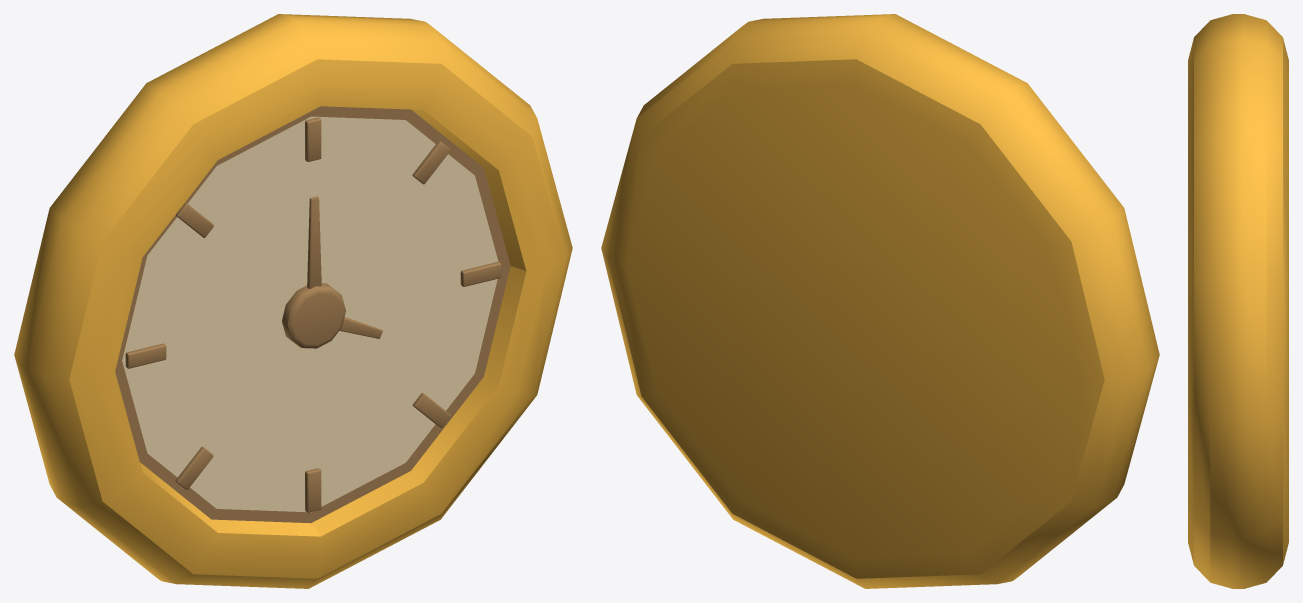
The model's file is Clock_3C.fbx.
3 views of the same model, side by side, from view 1: azimuth 30°, elevation 25°; view 2: azimuth 150°, elevation 25°; view 3: azimuth 270°, elevation 25° (orthographic). The views are drawn at different scales.
Parts seen in each view (by area): view 1: Clock_3C, Clock_3C Attachment_2; view 2: Clock_3C; view 3: Clock_3C.
Boxes of the visible parts, box(x1,y1,x2,y2) form: Clock_3C: box(14, 14, 572, 588); Clock_3C Attachment_2: box(307, 196, 321, 288); Clock_3C: box(601, 14, 1159, 588); Clock_3C: box(1188, 14, 1288, 588).
Bounding box in the file's own units: 0.321 × 0.321 × 0.0561.
